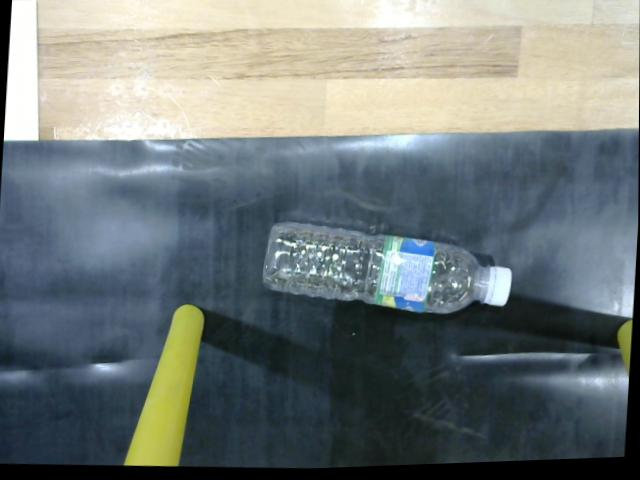bottle: (252, 222, 518, 329)
